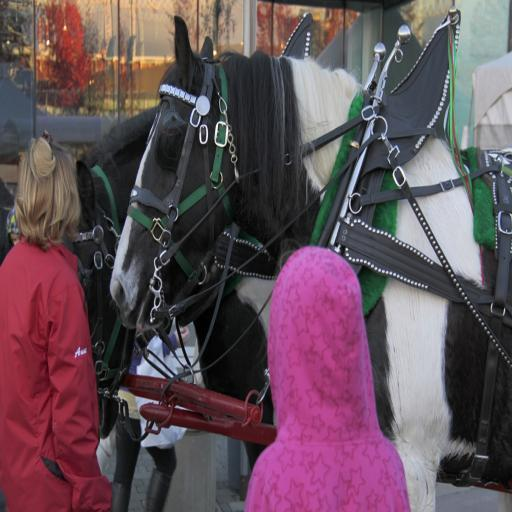horse: (110, 12, 512, 512), (61, 98, 277, 478)
